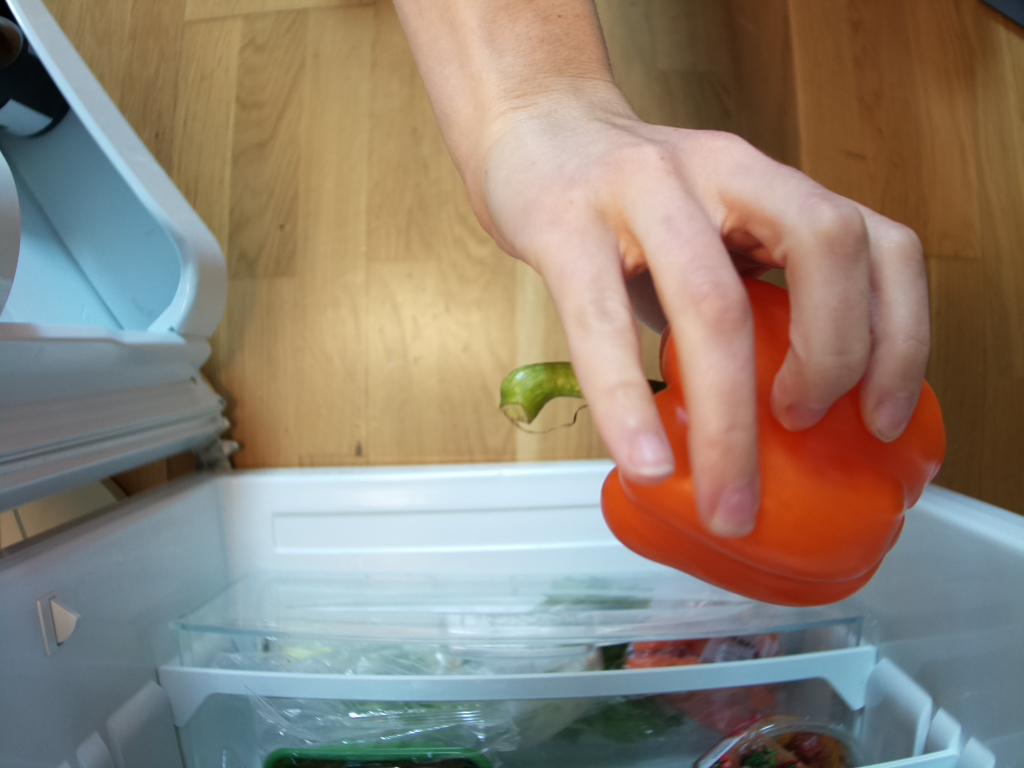pepper: (502, 273, 948, 606)
